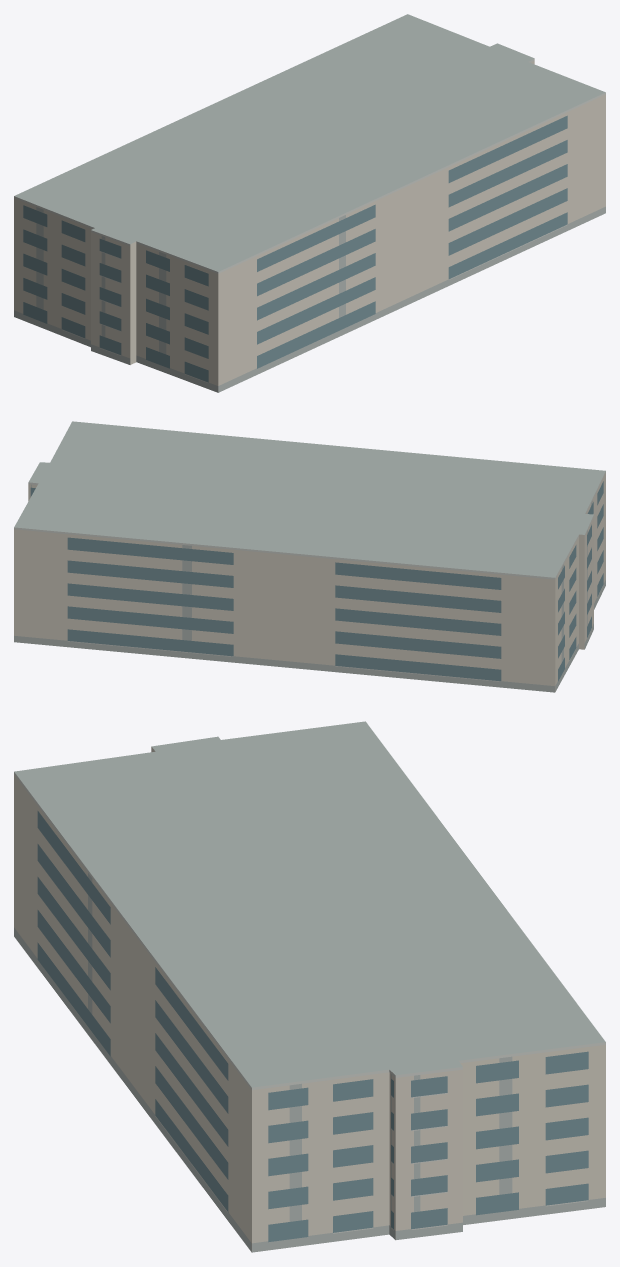
File: survey-upis-32867478.glb
3 views of the same model, one above another, from view 1: azimuth 30°, elevation 25°; view 2: azimuth 150°, elevation 25°; view 3: azimuth 270°, elevation 25° (orthographic). The views are drawn at different scales.
Parts seen in each view (by area): view 1: survey-upis-32867478.tmp; view 2: survey-upis-32867478.tmp; view 3: survey-upis-32867478.tmp.
Part boxes in pixels (x1=…): survey-upis-32867478.tmp: x1=14, y1=14, x2=605, y2=392; survey-upis-32867478.tmp: x1=14, y1=421, x2=605, y2=692; survey-upis-32867478.tmp: x1=14, y1=721, x2=605, y2=1252.
Size of the model in its own units: 72.66 by 15.25 by 49.62.
